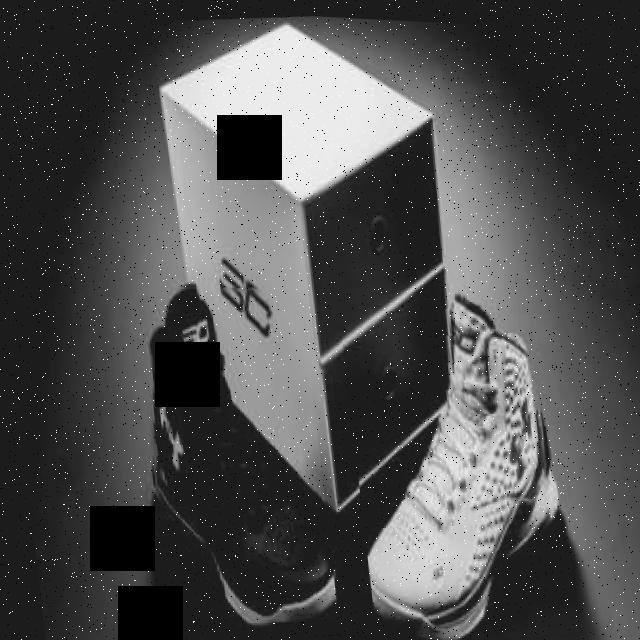shoe: (335, 277, 569, 640), (126, 269, 335, 631)
